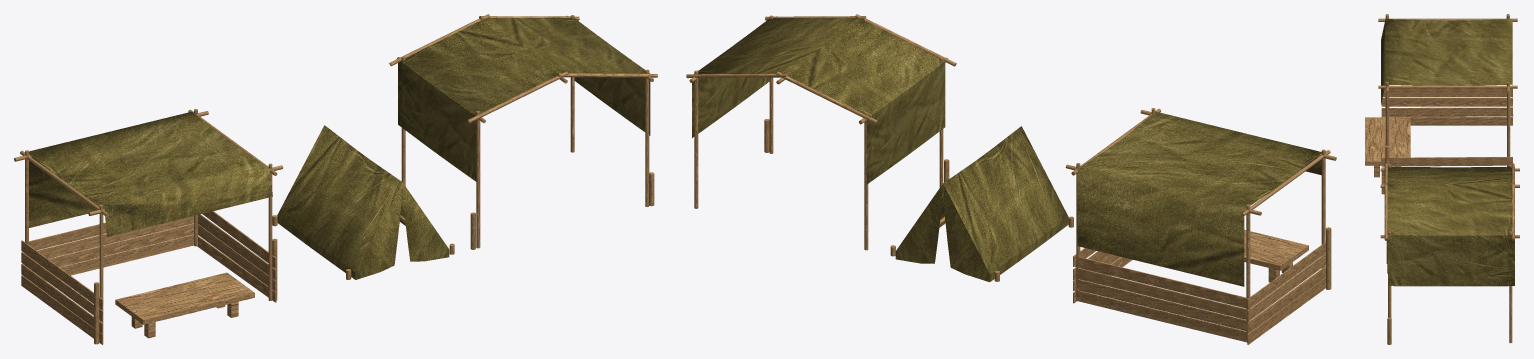
The model's file is army_camp.glb.
3 renders of one model, left to right at view 1: azimuth 30°, elevation 25°; view 2: azimuth 150°, elevation 25°; view 3: azimuth 270°, elevation 25°, orthographic. The views are drawn at different scales.
Visible parts, largest first — view 1: ClothArched_4, ClothFlat_1, ClothClosed_7, BaseBoards_0, Table_3, PolesArched_5, PolesFlat_2; view 2: ClothFlat_1, ClothArched_4, ClothClosed_7, BaseBoards_0, PolesArched_5, PolesFlat_2, Table_3; view 3: ClothArched_4, ClothFlat_1, BaseBoards_0, Table_3, PolesFlat_2, PolesArched_5.
Boxes of the visible parts, x1,y1,x2,y2 form: ClothArched_4: (398, 16, 650, 181); ClothFlat_1: (29, 111, 272, 236); ClothClosed_7: (277, 125, 449, 279); BaseBoards_0: (21, 211, 276, 344); Table_3: (115, 272, 254, 338); PolesArched_5: (389, 14, 657, 249); PolesFlat_2: (14, 109, 283, 344); ClothFlat_1: (1077, 111, 1321, 286); ClothArched_4: (692, 18, 945, 184); ClothClosed_7: (895, 126, 1068, 282); BaseBoards_0: (1073, 242, 1325, 344); PolesArched_5: (686, 14, 956, 250); PolesFlat_2: (1065, 108, 1336, 331); Table_3: (1244, 229, 1308, 282); ClothArched_4: (1387, 166, 1514, 286); ClothFlat_1: (1381, 19, 1512, 104); BaseBoards_0: (1381, 88, 1513, 194); Table_3: (1365, 117, 1410, 177); PolesFlat_2: (1378, 14, 1517, 174); PolesArched_5: (1380, 163, 1519, 344).
Size of the model in its own units: 7.01 by 1.87 by 2.04.
2 materials, 2 textured.
